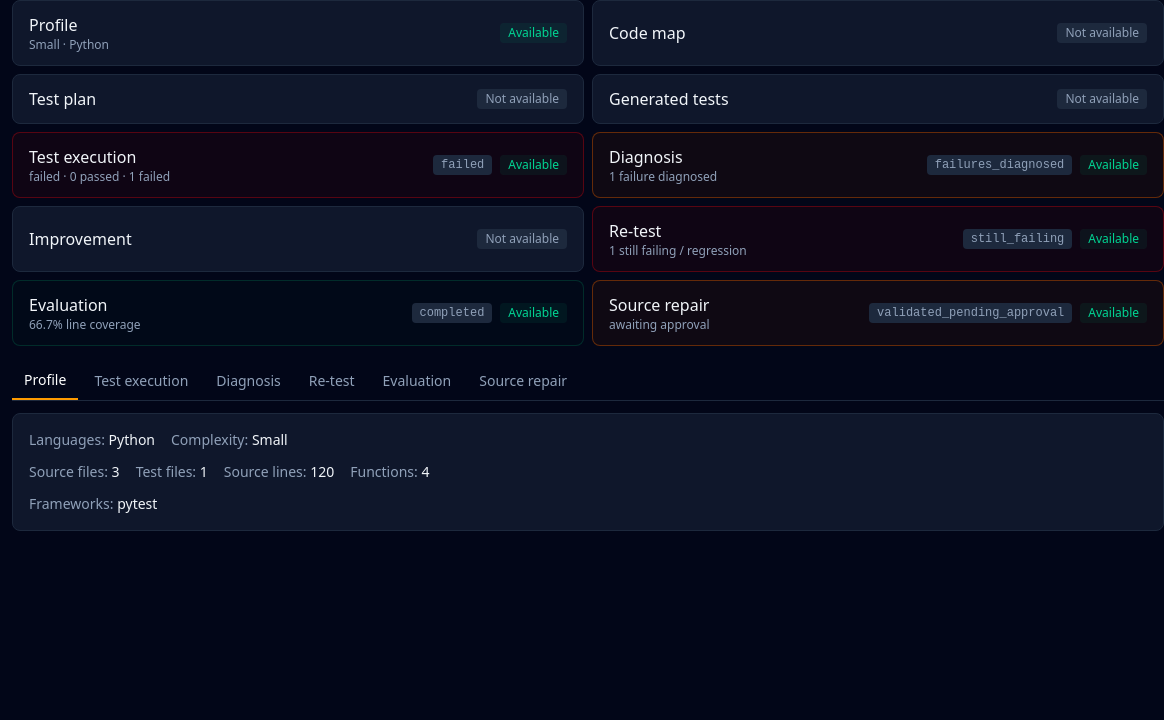
it: ArtifactsTabs › renders execution details when available
Click the tab "Test execution" at (141, 381), box [82,362,200,400]
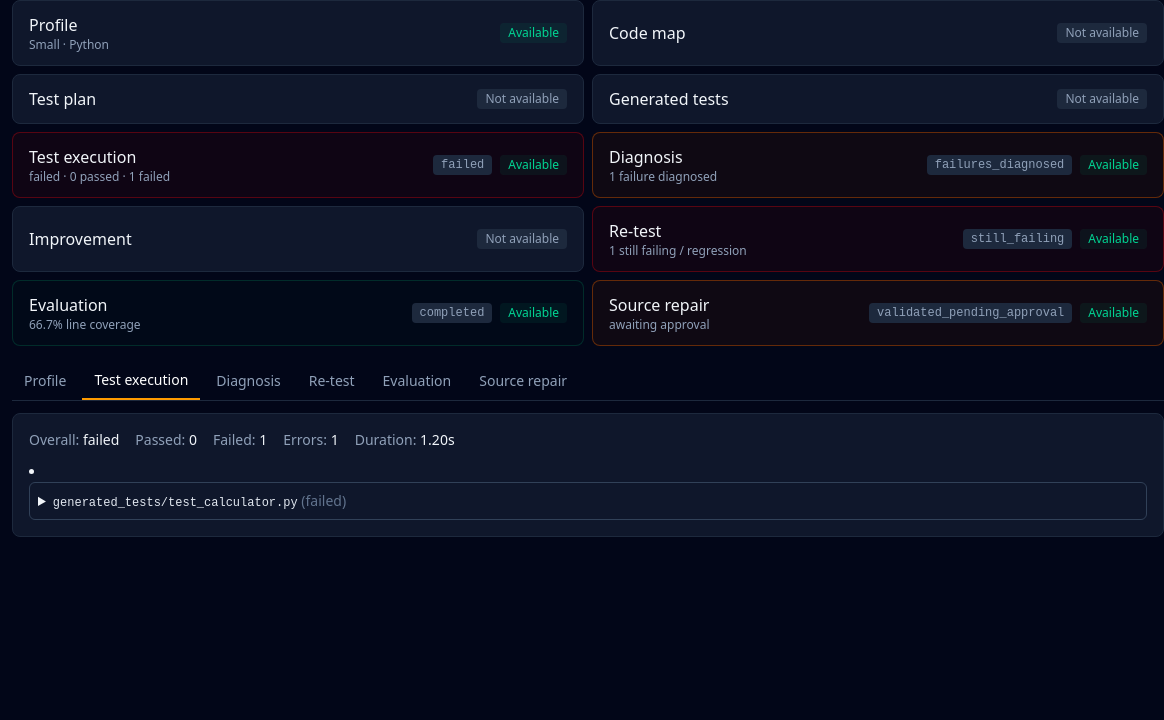
Check: the text "Passed:" is shown, box [135,430,185,449]
Check: the text "Duration: 1.20s" is shown, box [355,430,455,450]
